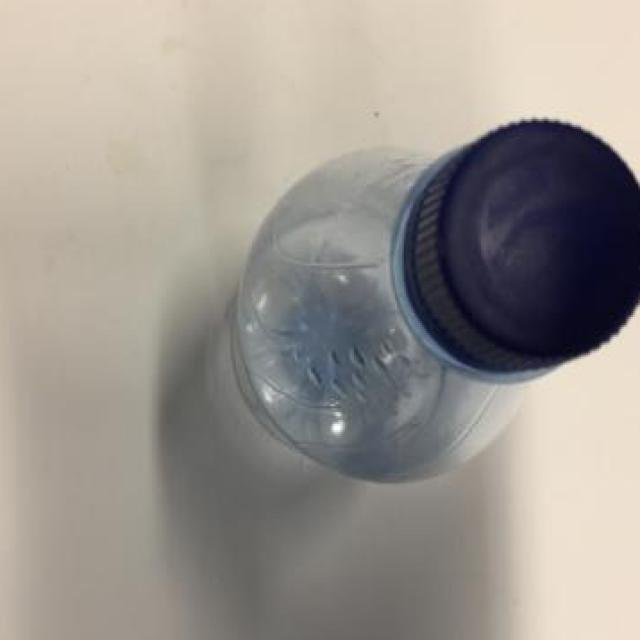organic: (168, 57, 636, 530)
